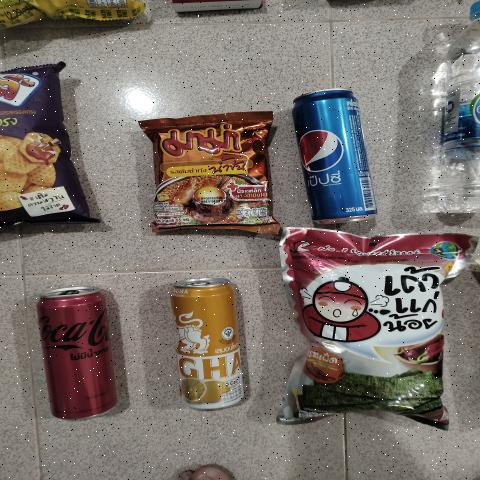coke_red: (36, 287, 119, 424)
mama: (156, 125, 270, 231)
pepsi_blue: (284, 84, 381, 219)
singha_soda: (165, 278, 250, 409)
taokaenoi: (292, 238, 449, 425)
